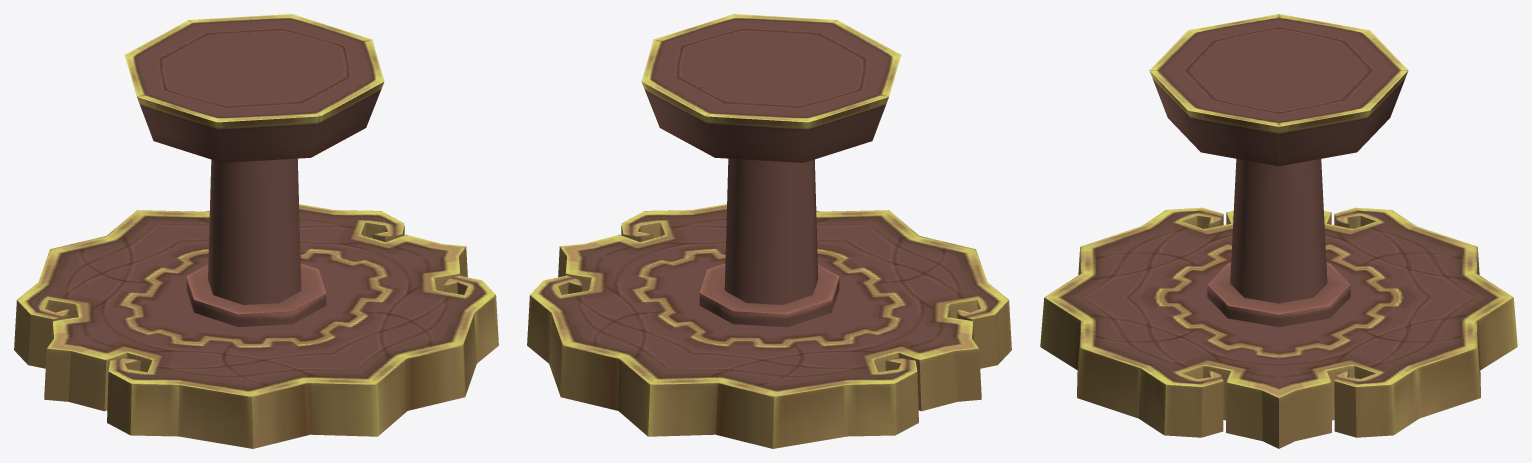
File: yangchunbaixue_01.FBX
3 renders of one model, left to right at view 1: azimuth 30°, elevation 25°; view 2: azimuth 150°, elevation 25°; view 3: azimuth 270°, elevation 25°, orthographic.
Visible parts, largest first — view 1: Object03, Object09, Object08; view 2: Object03, Object09, Object08; view 3: Object03, Object09, Object08.
Boxes of the visible parts, x1=… form: Object03: x1=14, y1=204, x2=498, y2=448; Object09: x1=125, y1=14, x2=384, y2=162; Object08: x1=208, y1=158, x2=301, y2=304; Object03: x1=527, y1=204, x2=1011, y2=448; Object09: x1=641, y1=14, x2=900, y2=162; Object08: x1=724, y1=158, x2=818, y2=304; Object03: x1=1040, y1=207, x2=1517, y2=448; Object09: x1=1149, y1=14, x2=1408, y2=166; Object08: x1=1230, y1=159, x2=1327, y2=303.
Size of the model in its own units: 4.78 by 3.01 by 4.73.
